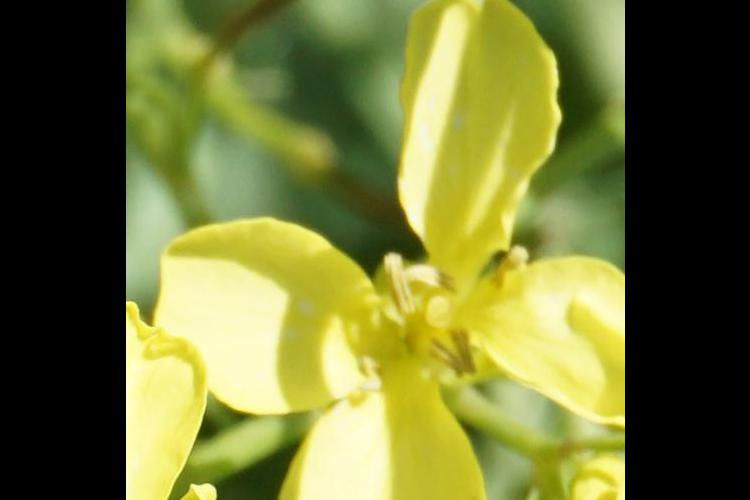pod: (189, 1, 354, 78)
yellow: (205, 18, 620, 500)
